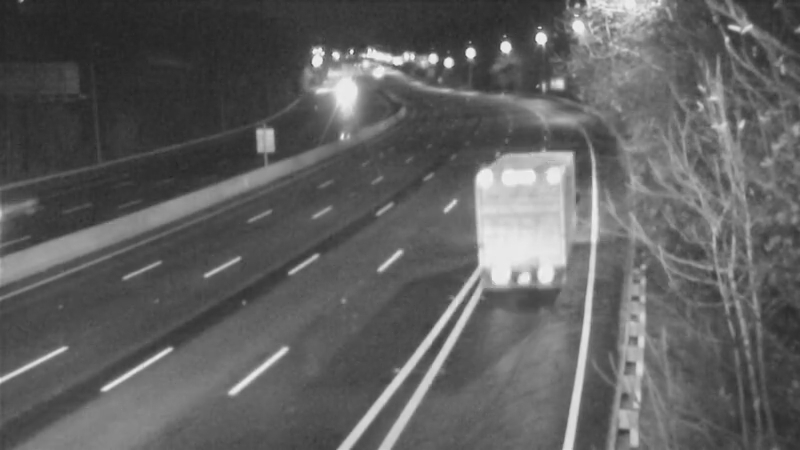vehicle: (462, 186, 542, 266), (1, 164, 70, 244), (312, 73, 362, 123)
